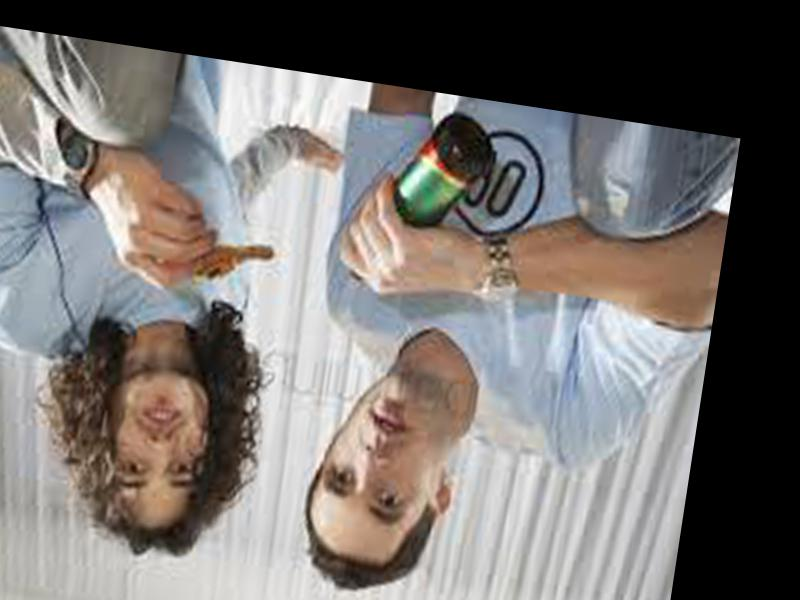Beer: (348, 99, 502, 299)
